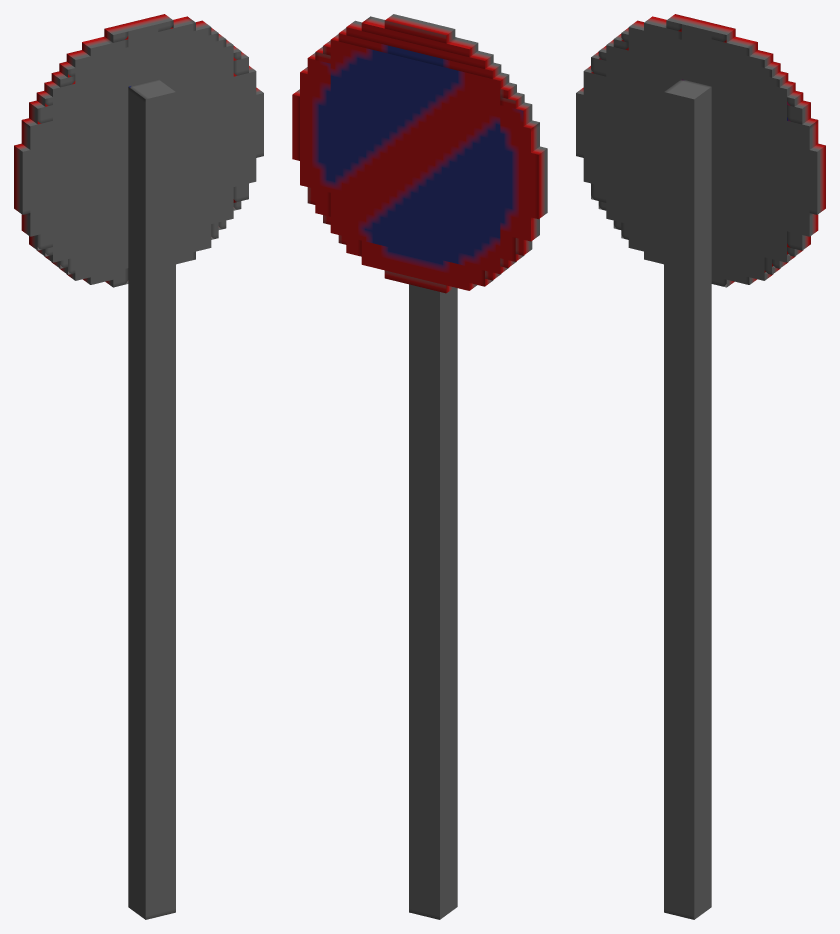
The picture shows the model from 3 angles, left to right: view 1: azimuth 30°, elevation 25°; view 2: azimuth 150°, elevation 25°; view 3: azimuth 330°, elevation 25°; orthographic projection. The views are drawn at different scales.
Parts seen in each view (by area): view 1: Content; view 2: Content; view 3: Content.
Boxes of the visible parts, left/top/right/bottom form: Content: left=14, top=14, right=263, bottom=919; Content: left=292, top=14, right=547, bottom=919; Content: left=576, top=14, right=825, bottom=919.
Size of the model in its own units: 32 by 111 by 6.
Materials: 1 (1 with a texture image).
